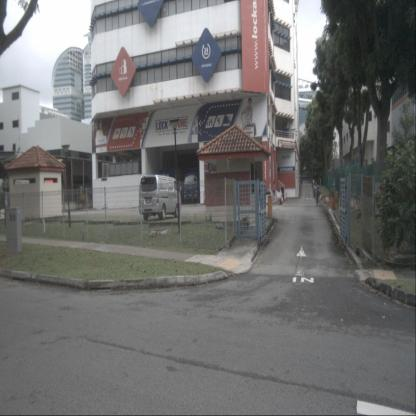human-pedestrian-adult: (314, 180, 322, 207), (272, 182, 276, 199)
movable_object-trafficcone: (332, 196, 336, 210), (330, 196, 334, 209), (326, 194, 330, 206), (280, 194, 284, 205), (325, 195, 328, 205), (284, 192, 286, 202), (286, 192, 288, 200)
vehicle-car: (138, 175, 181, 221)
vehicle-truck: (184, 166, 209, 204)
